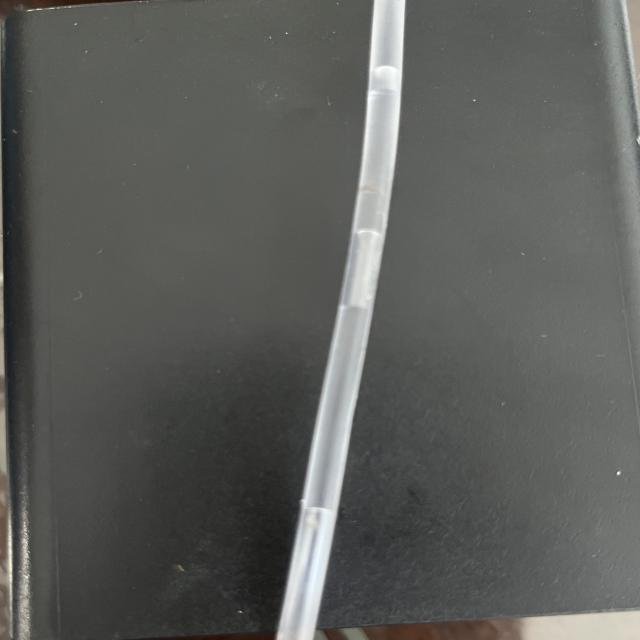bubble: (280, 495, 343, 640), (338, 220, 393, 320), (356, 53, 412, 112)
